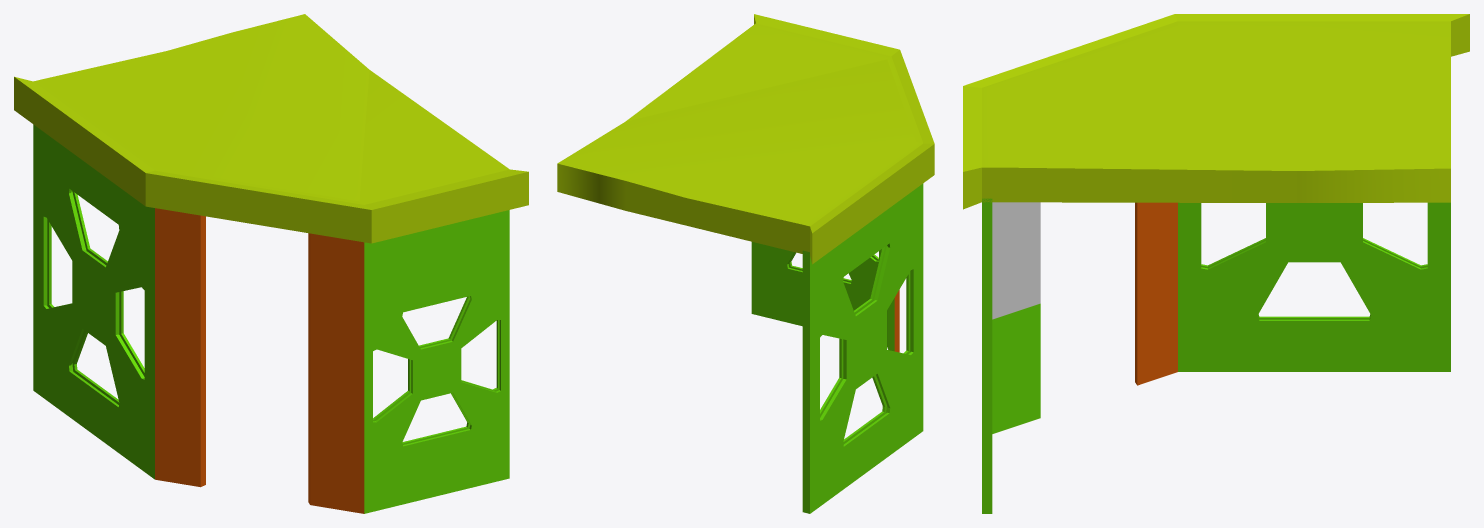
The model's file is Hibernadero.fbx.
3 renders of one model, left to right at view 1: azimuth 30°, elevation 25°; view 2: azimuth 150°, elevation 25°; view 3: azimuth 270°, elevation 25°, orthographic. The views are drawn at different scales.
Parts seen in each view (by area): view 1: Hibernadero.001; view 2: Hibernadero.001; view 3: Hibernadero.001.
Part boxes in pixels (left/top/right/bottom): Hibernadero.001: left=14, top=14, right=528, bottom=513; Hibernadero.001: left=557, top=14, right=934, bottom=513; Hibernadero.001: left=963, top=14, right=1469, bottom=513.
Bounding box in the file's own units: 296 × 304 × 401.
